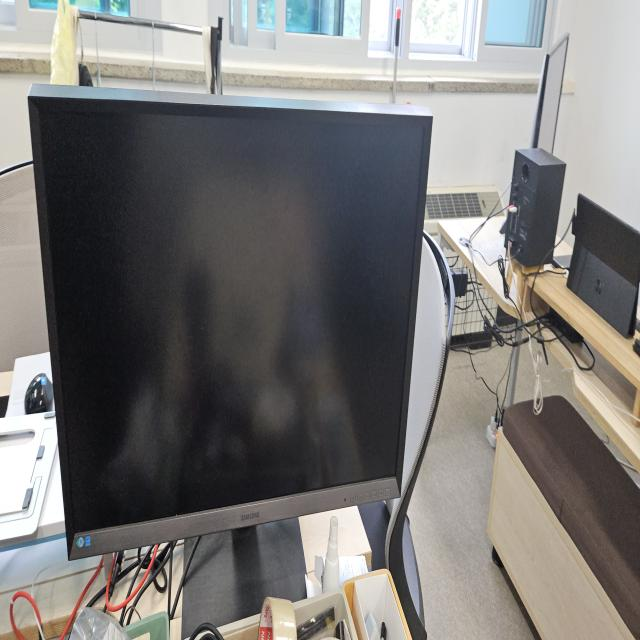Monitor: (27, 78, 434, 562)
